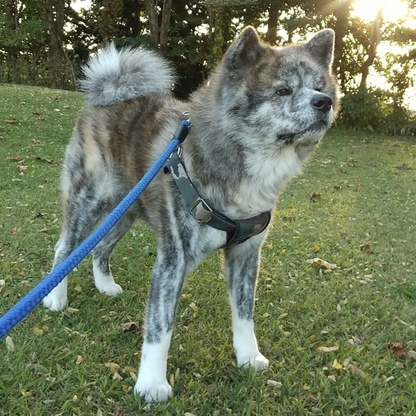akita: (43, 20, 351, 406)
